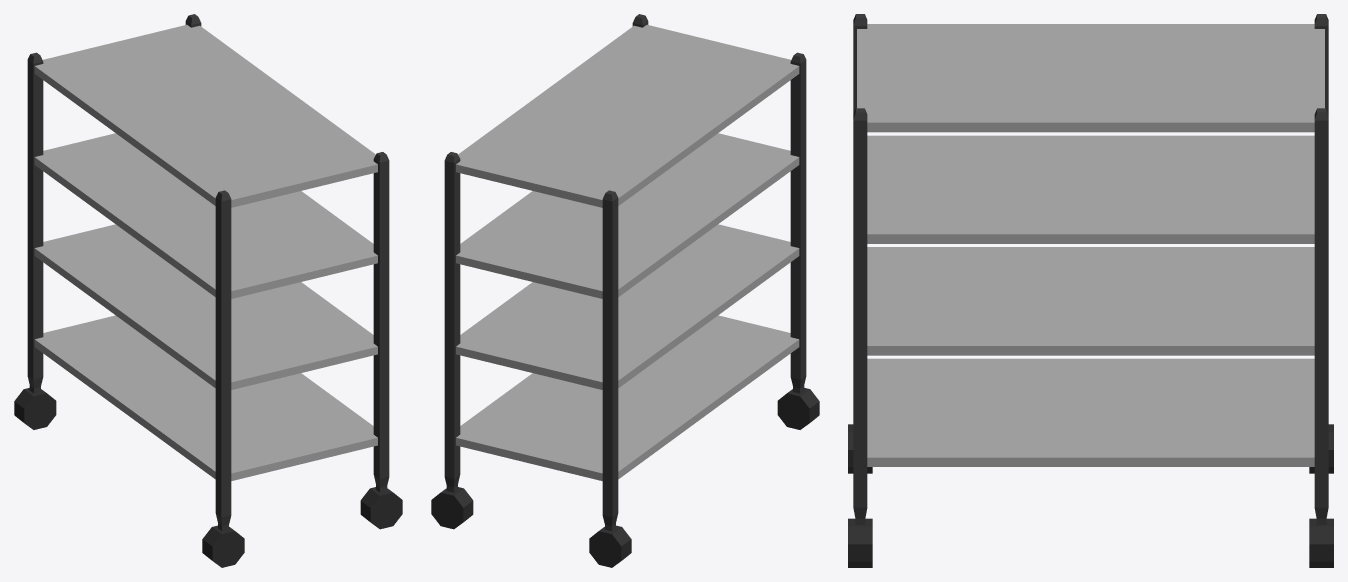
The model's file is Shelving.fbx.
The picture shows the model from 3 angles, left to right: view 1: azimuth 30°, elevation 25°; view 2: azimuth 150°, elevation 25°; view 3: azimuth 270°, elevation 25°; orthographic projection. The views are drawn at different scales.
Visible parts, largest first — view 1: Shelving; view 2: Shelving; view 3: Shelving.
Boxes of the visible parts, x1,y1,x2,y2 form: Shelving: [14, 14, 402, 567]; Shelving: [431, 14, 819, 567]; Shelving: [848, 14, 1333, 567].
Size of the model in its own units: 109 by 203 by 197.
